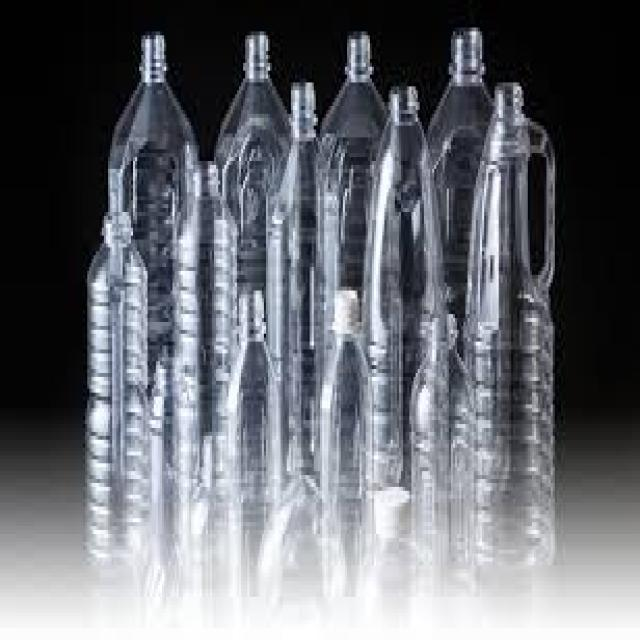bottle: (466, 83, 554, 581), (364, 87, 442, 486), (109, 32, 197, 373), (169, 161, 234, 537), (86, 213, 147, 577), (273, 83, 324, 475), (320, 32, 386, 333), (215, 32, 288, 298), (429, 28, 492, 325), (229, 291, 284, 608), (167, 169, 207, 569), (320, 291, 371, 592), (258, 472, 344, 620), (202, 165, 236, 490), (410, 330, 450, 592), (144, 354, 178, 620), (358, 487, 419, 620), (447, 315, 475, 592)
plastic: (269, 83, 322, 475)
